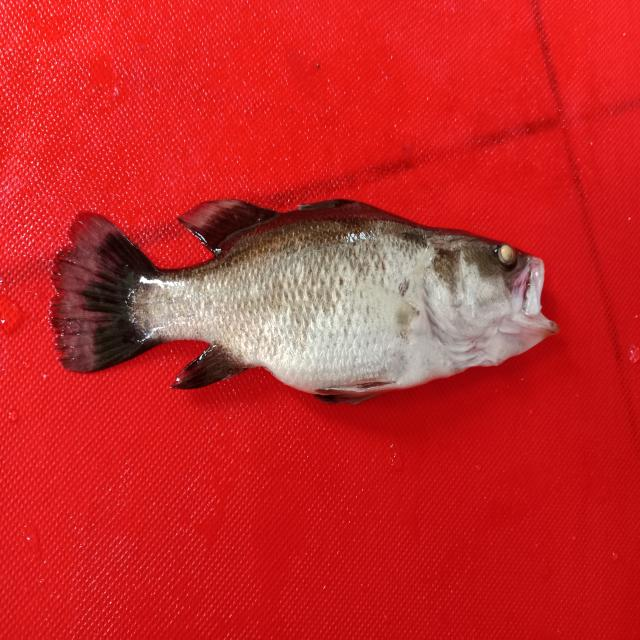ikan: (36, 168, 565, 422)
